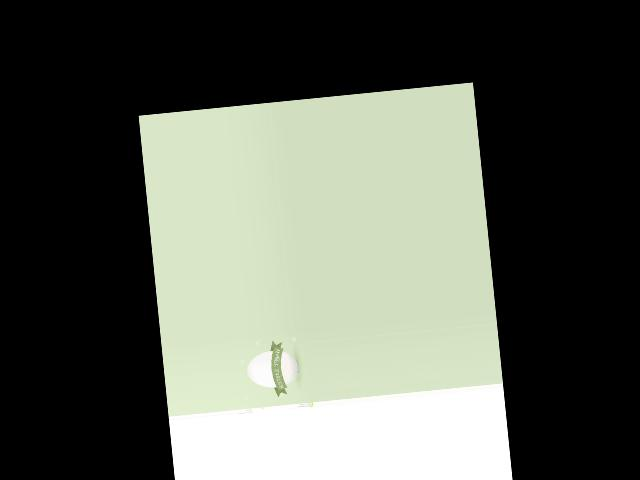egg: (245, 349, 299, 390)
